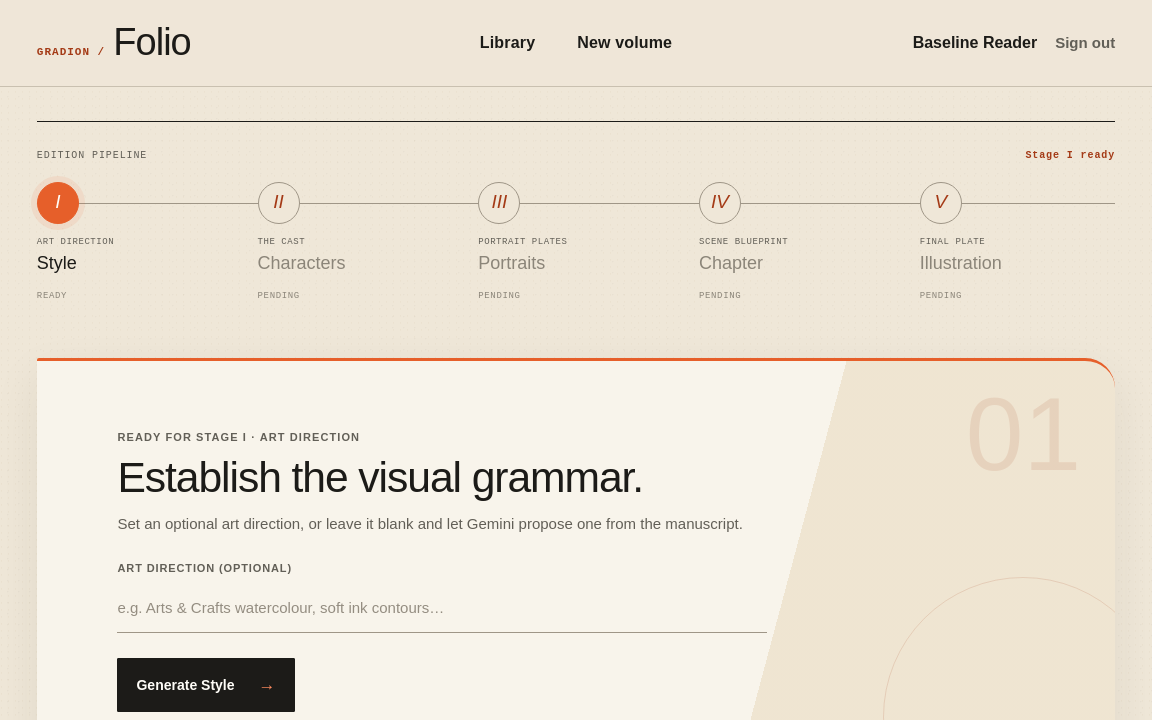
Test: StudioPage persisted state mapping › seeds a completed Run response without refetching detail or manuscript
What coordinates should you click on to do the following:
click the button "Generate Style →"
I would click on:
 (206, 685)
Its box is x1=118 y1=658 x2=295 y2=712.
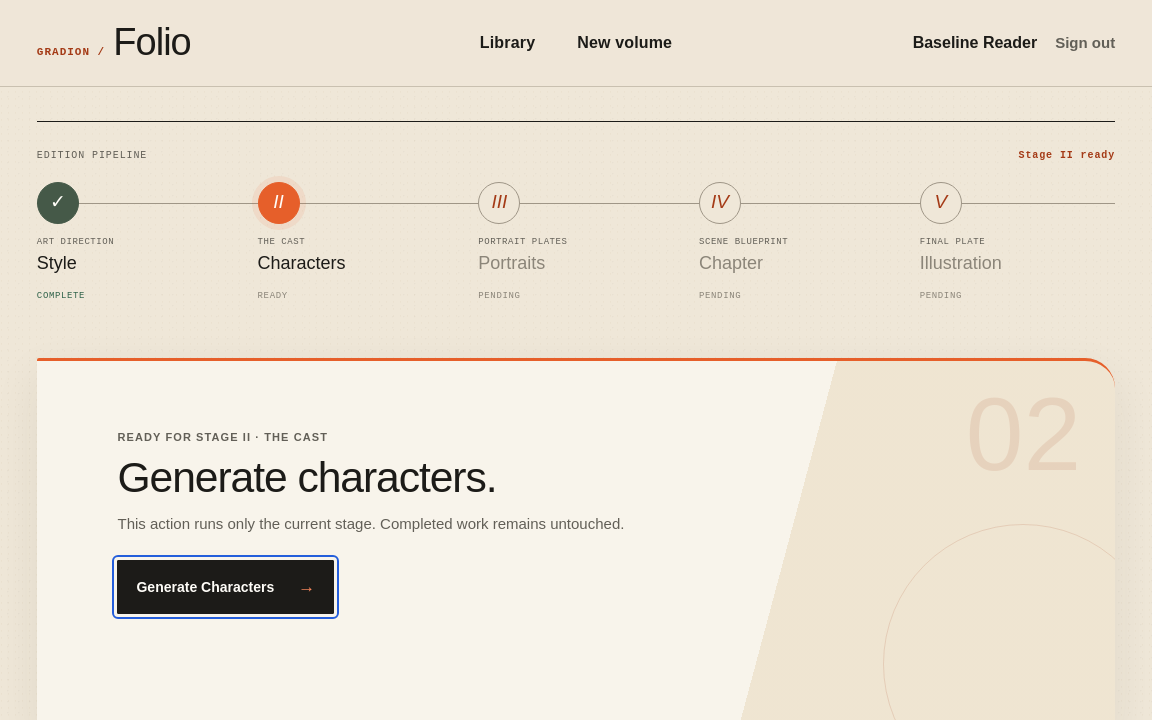
Expected: the button "Generate Characters →" is shown, x1=118 y1=560 x2=334 y2=614
